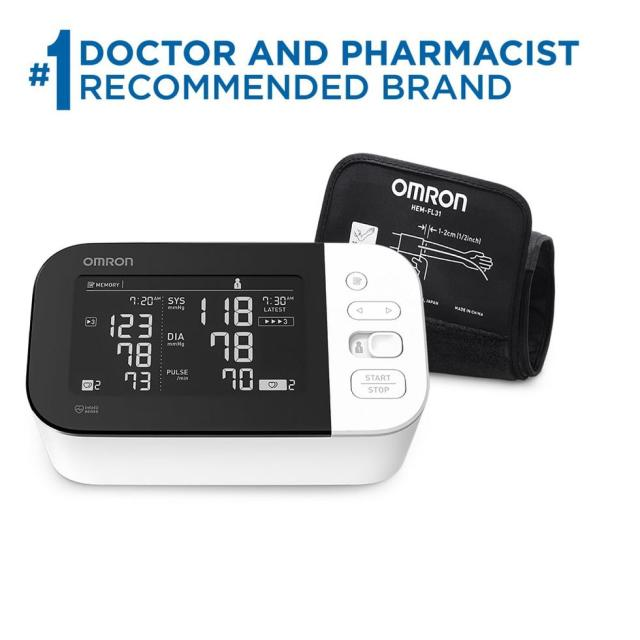pul: (219, 365, 260, 393)
ssd: (71, 275, 305, 395)
sys: (195, 292, 259, 330), (207, 328, 259, 364)
